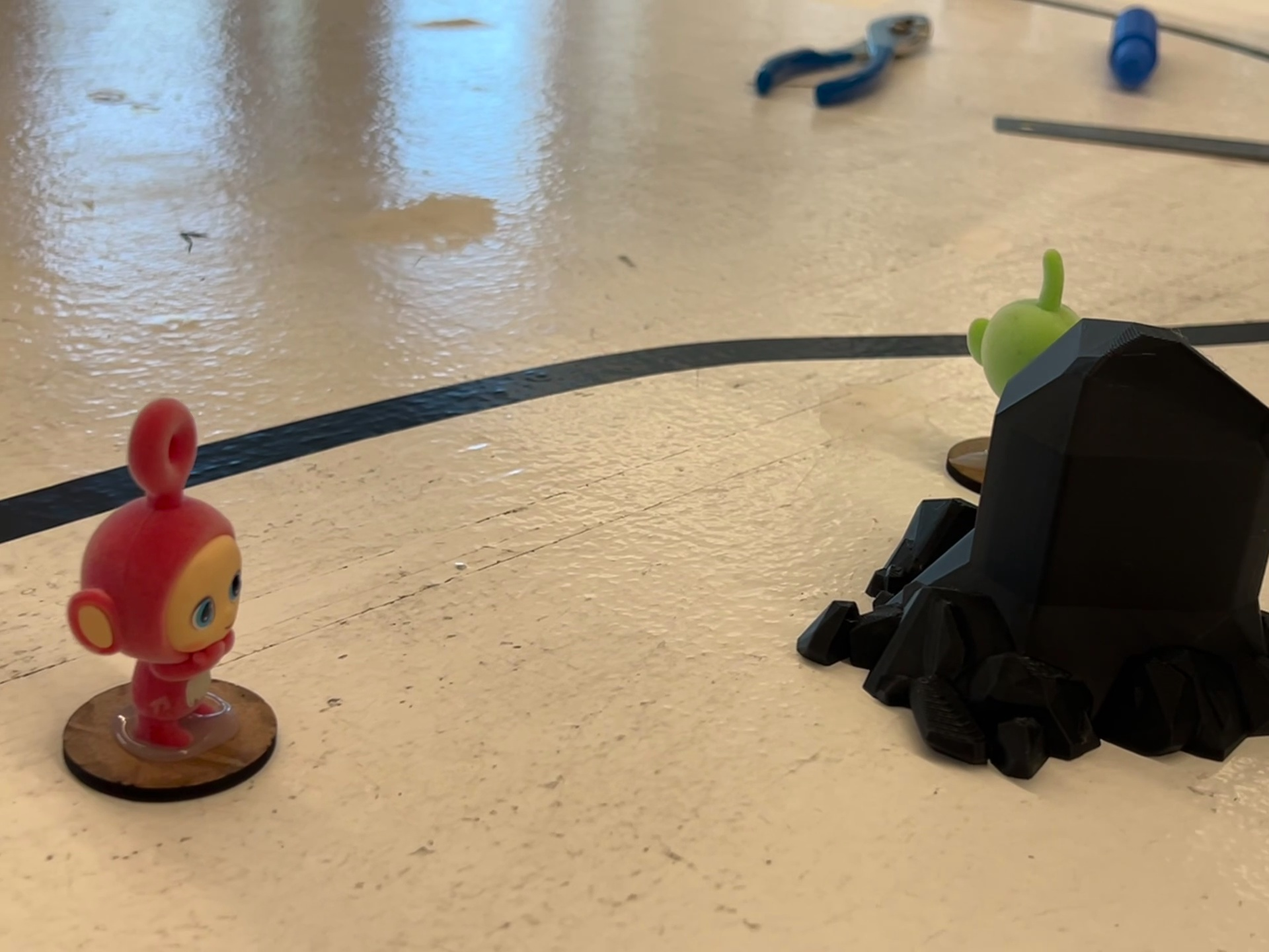teletubby: (67, 399, 242, 753), (968, 249, 1079, 396)
